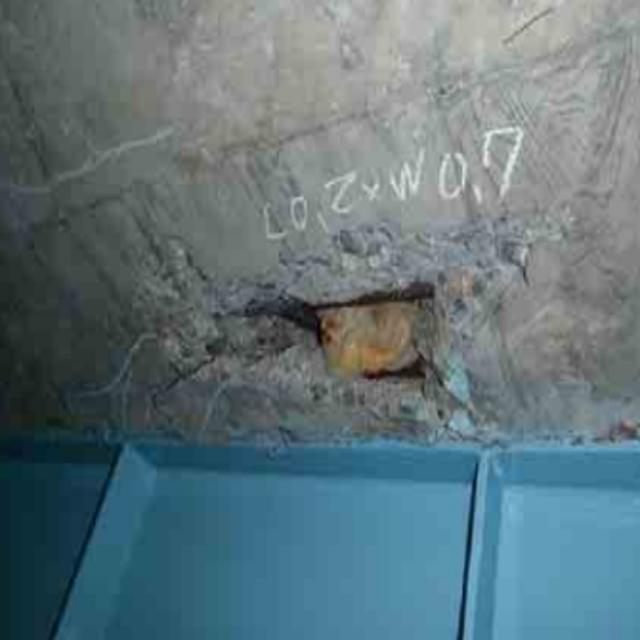spalling: (121, 181, 533, 443)
